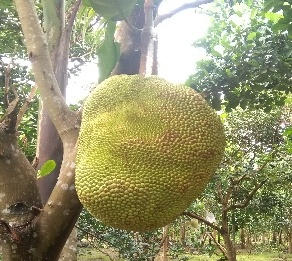Mit: (74, 74, 226, 234)
